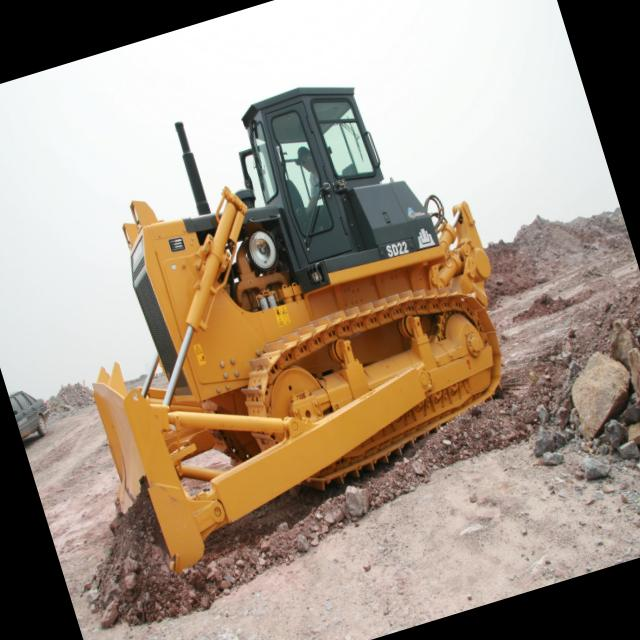Bulldozer: (2, 32, 557, 580)
